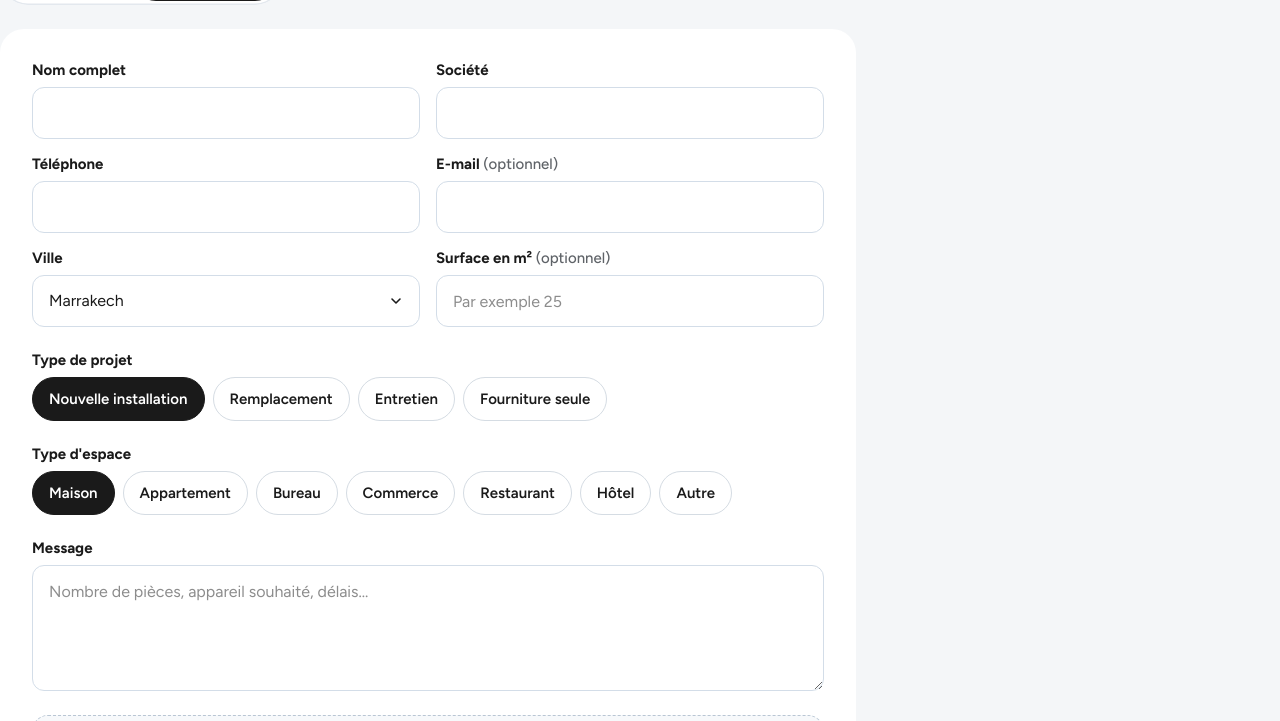
Test: QuoteForm › posts the request and shows the confirmation
This screenshot has width=1280, height=721.
Type "Karim Benali" into the field labelled "Nom complet" at (226, 113), box [32,87,420,139]
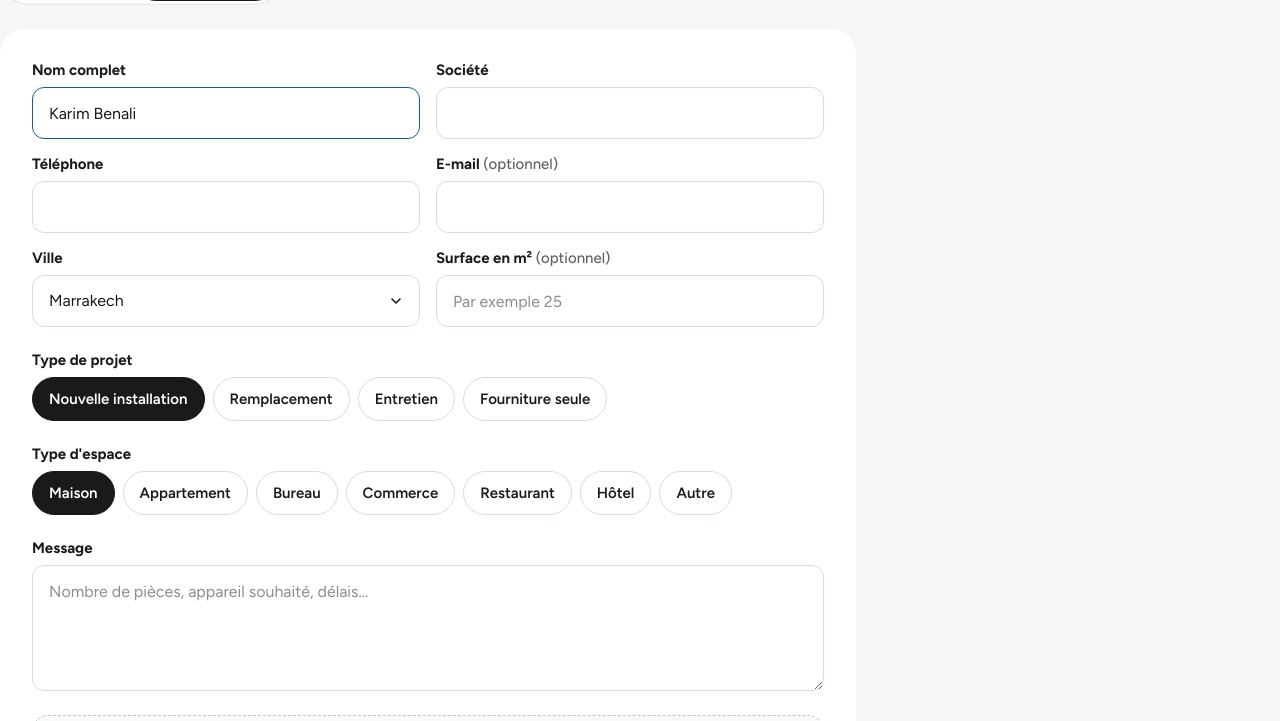
Type "06 61 23 45 67" into the field labelled "Téléphone" at (226, 207), box [32,181,420,233]
(page scrolled)
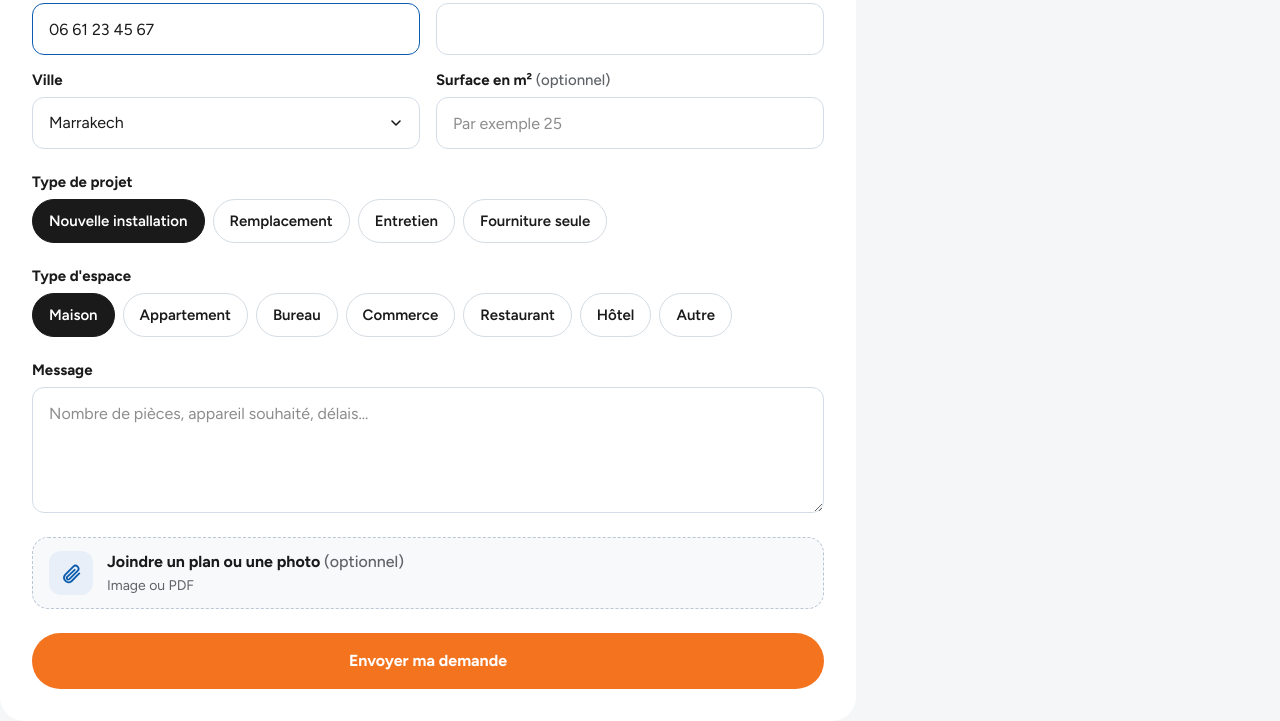
Click the button "Envoyer ma demande" at (428, 661), box [32,633,824,689]
(page scrolled)
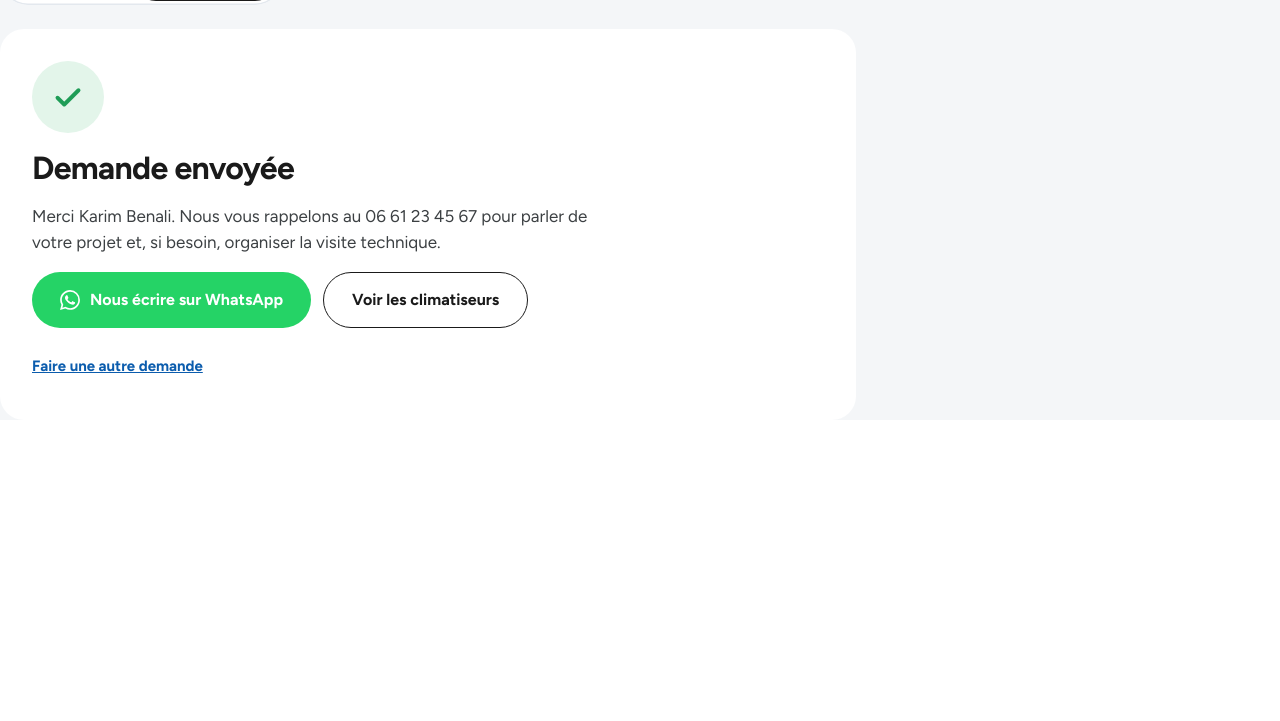
Result: the heading "Demande envoyée" is shown at [32,149,294,187]
